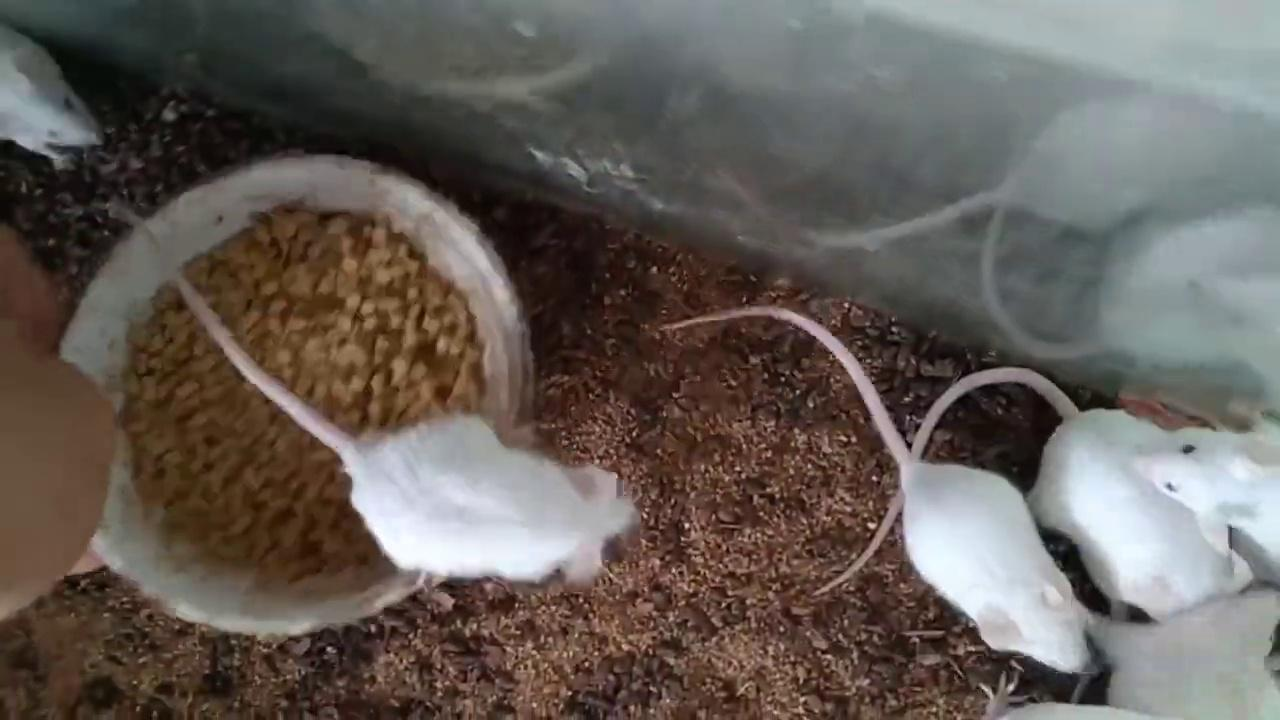rat: (104, 198, 638, 594), (669, 304, 1094, 676), (1135, 410, 1280, 556), (0, 24, 107, 173)
